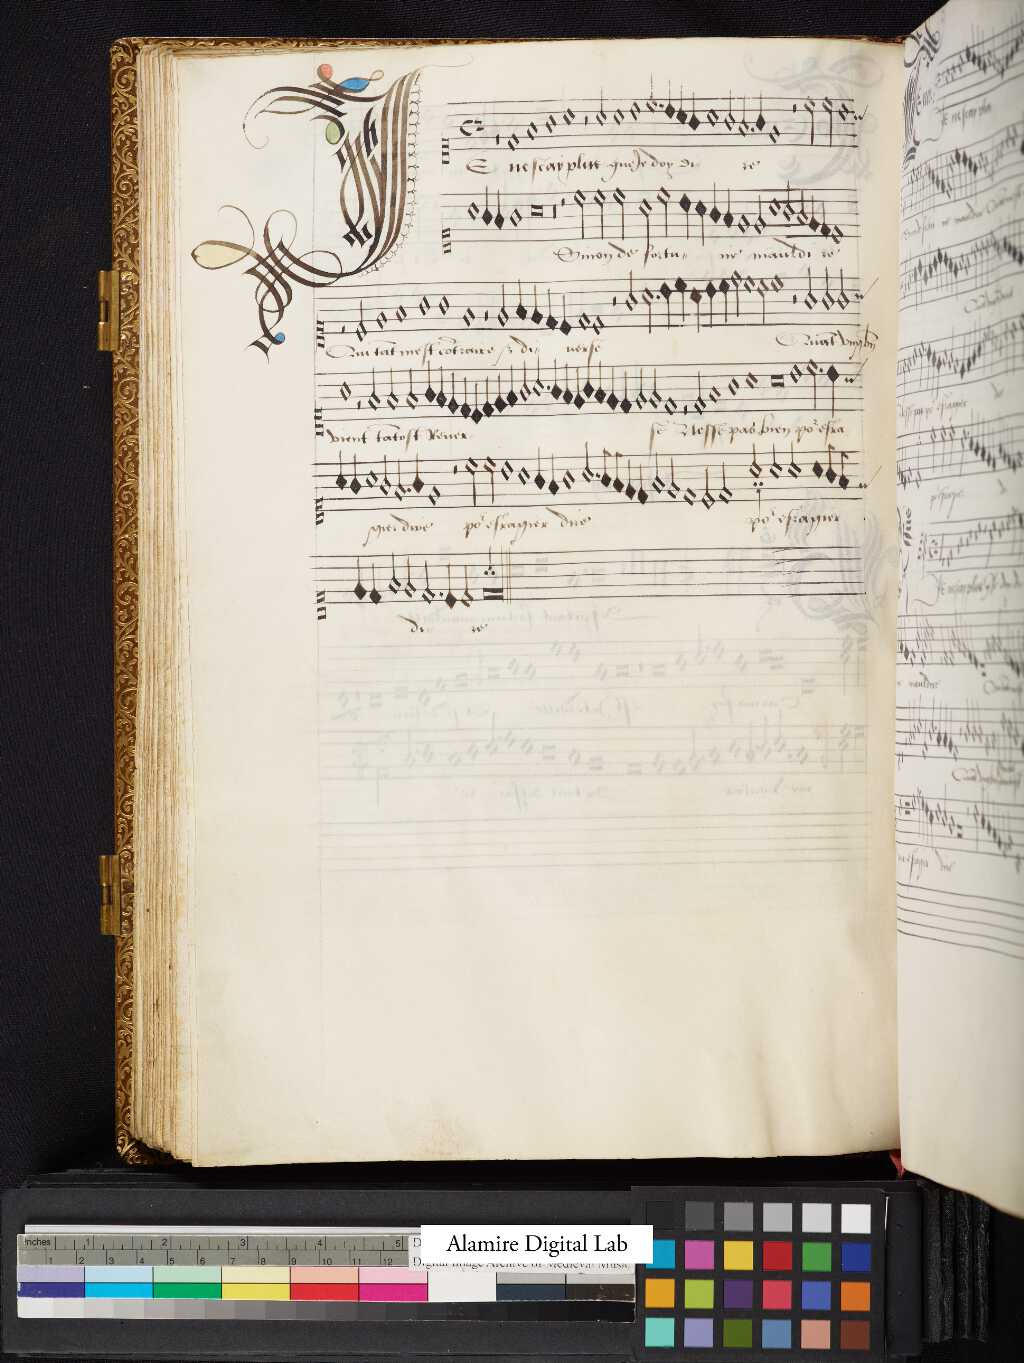2: (471, 112, 490, 134)
Imin: (455, 109, 477, 144)
c clef_11: (436, 127, 456, 175)
custos_6: (851, 97, 871, 123)
minim rest: (579, 85, 592, 152)
minim_4: (819, 87, 836, 151), (802, 86, 819, 150), (644, 66, 659, 117)
minim_6: (594, 80, 609, 131)
minim_7: (721, 80, 737, 136)
minim_8: (736, 88, 750, 141)
point: (745, 117, 757, 136), (654, 95, 665, 112)
semibreve rest: (490, 98, 504, 160), (787, 85, 799, 150)
semibreve_10: (496, 131, 523, 158)
semibreve_5: (627, 93, 644, 128), (836, 95, 852, 128)
semibreve_6: (560, 98, 579, 133), (703, 98, 721, 133), (611, 99, 628, 132)
semibreve_7: (543, 105, 560, 142)
semibreve_8: (524, 110, 541, 148)
semibreve_9: (765, 115, 784, 152)
semiminim_5: (663, 73, 677, 125)
semiminim_6: (674, 75, 688, 130)
semiminim_7: (687, 84, 702, 138), (754, 84, 769, 138)
